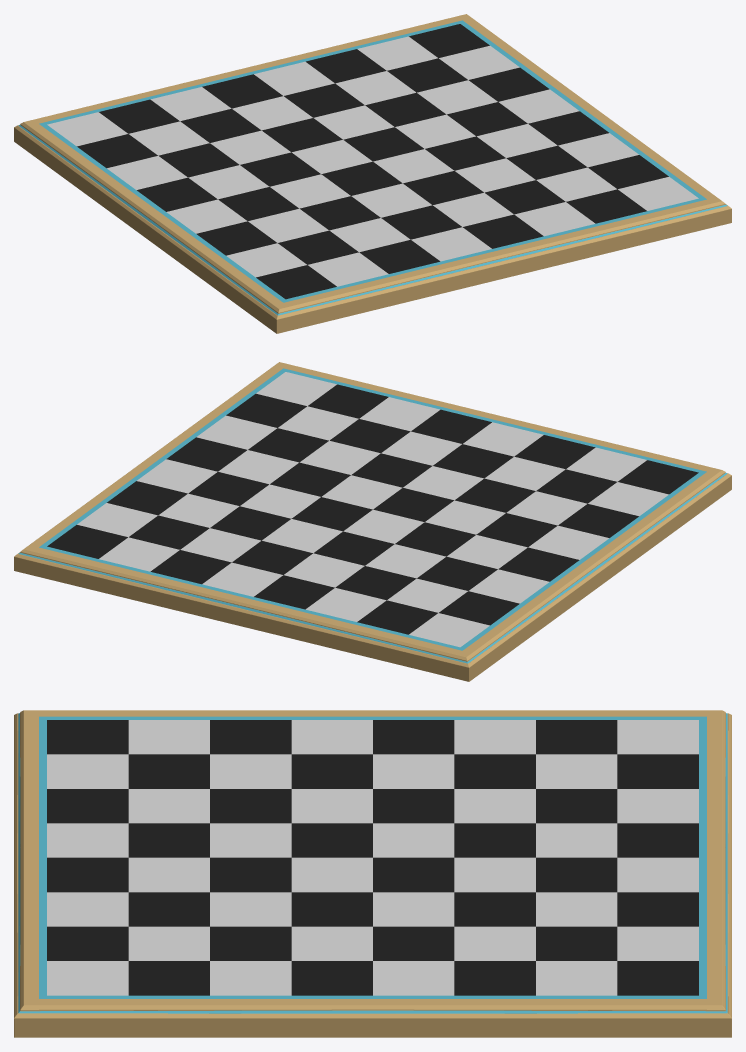
Rendered from schachbrett_mesh100.fbx.
3 views of the same model, one above another, from view 1: azimuth 30°, elevation 25°; view 2: azimuth 150°, elevation 25°; view 3: azimuth 270°, elevation 25° (orthographic). The views are drawn at different scales.
Parts seen in each view (by area): view 1: brettMesh; view 2: brettMesh; view 3: brettMesh.
Part boxes in pixels (left/top/right/bottom): brettMesh: left=14, top=14, right=731, bottom=333; brettMesh: left=14, top=362, right=731, bottom=681; brettMesh: left=14, top=710, right=731, bottom=1037.
Size of the model in its own units: 881 by 38.18 by 881.
